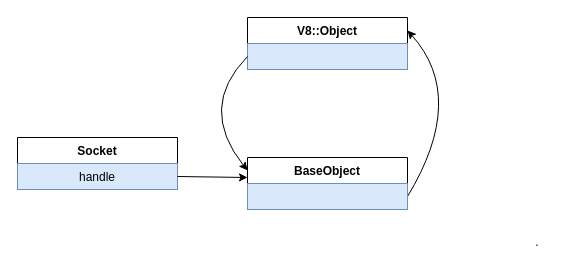
Some shapes in this 585 by 275 pixel diagram are drawn without their labels. The centre of each missing label's shape, as x and y in pixels:
- persistent_handle_: the point at 327,196
内置字段: the point at 327,56
